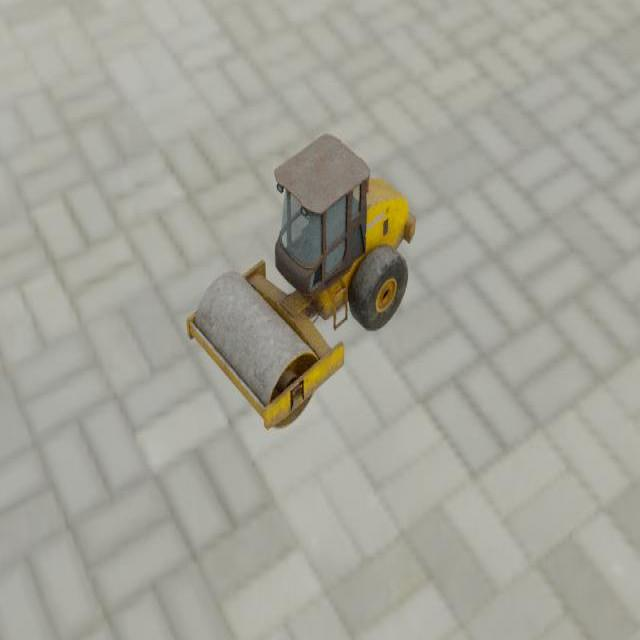Roller: (185, 133, 416, 431)
